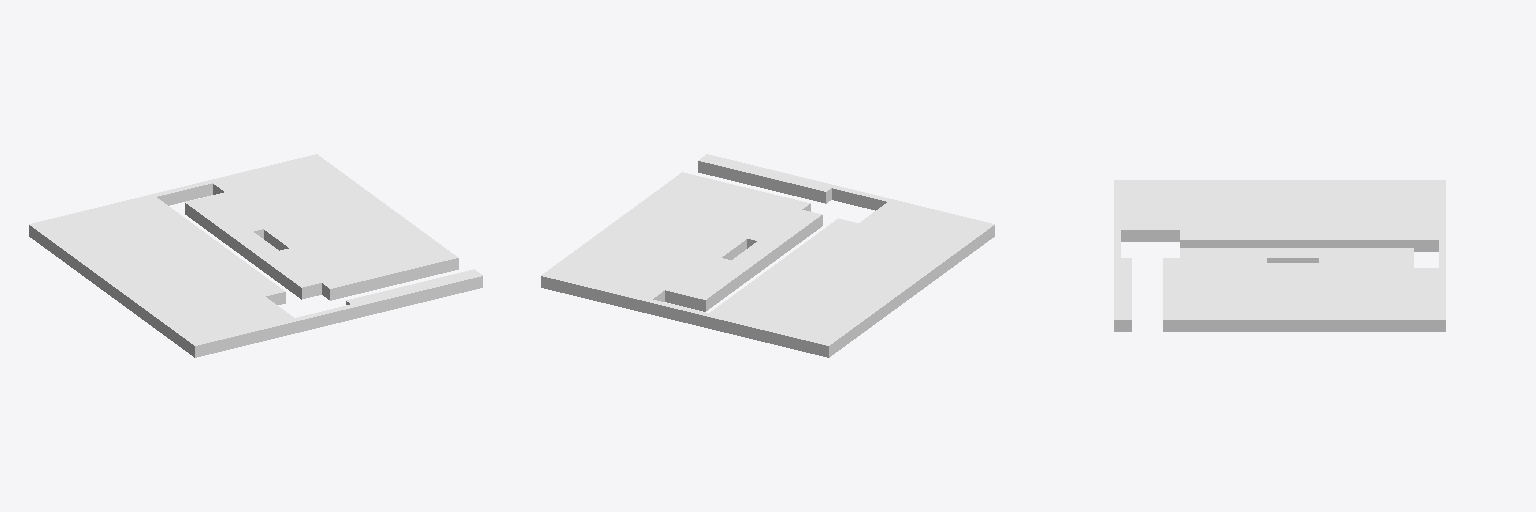
The model's file is stage5-1-0-Stage5-1.obj.
3 renders of one model, left to right at view 1: azimuth 30°, elevation 25°; view 2: azimuth 150°, elevation 25°; view 3: azimuth 270°, elevation 25°, orthographic.
Visible parts, largest first — view 1: Stage5-1; view 2: Stage5-1; view 3: Stage5-1.
Boxes of the visible parts, x1=… form: Stage5-1: x1=29, y1=154, x2=482, y2=357; Stage5-1: x1=541, y1=154, x2=994, y2=357; Stage5-1: x1=1114, y1=180, x2=1445, y2=331.
Size of the model in its own units: 25.6 by 1 by 25.6.